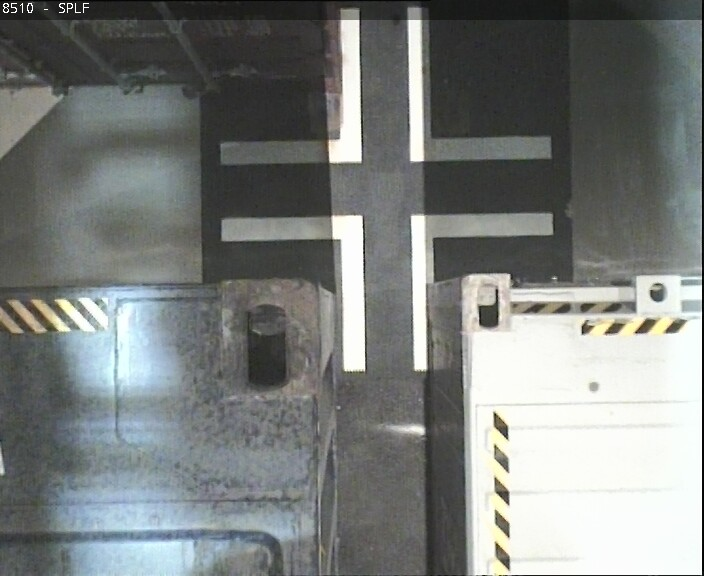groundmarker_1: (221, 211, 556, 373), (216, 1, 551, 162)
